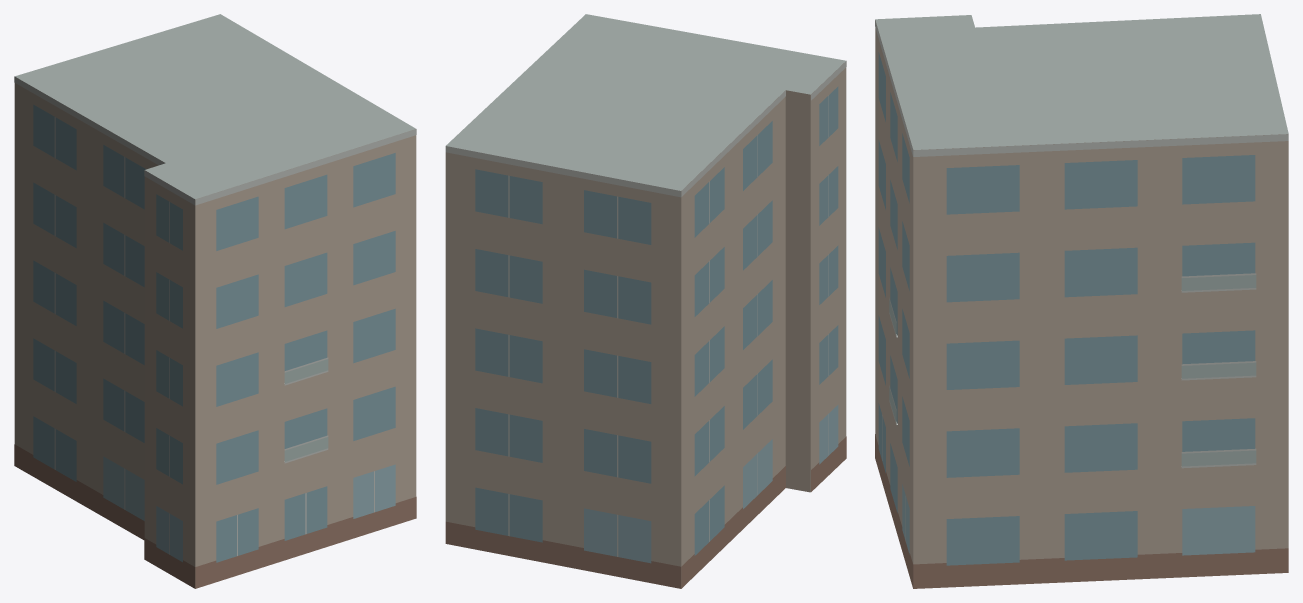
File: survey-upis-32665351.glb
The picture shows the model from 3 angles, left to right: view 1: azimuth 30°, elevation 25°; view 2: azimuth 150°, elevation 25°; view 3: azimuth 270°, elevation 25°; orthographic projection. The views are drawn at different scales.
Visible parts, largest first — view 1: survey-upis-32665351.tmp; view 2: survey-upis-32665351.tmp; view 3: survey-upis-32665351.tmp.
Boxes of the visible parts, bbox=[...] form: survey-upis-32665351.tmp: bbox=[14, 14, 416, 588]; survey-upis-32665351.tmp: bbox=[445, 14, 846, 588]; survey-upis-32665351.tmp: bbox=[875, 14, 1288, 588].
Size of the model in its own units: 10.19 by 15.3 by 13.08.
